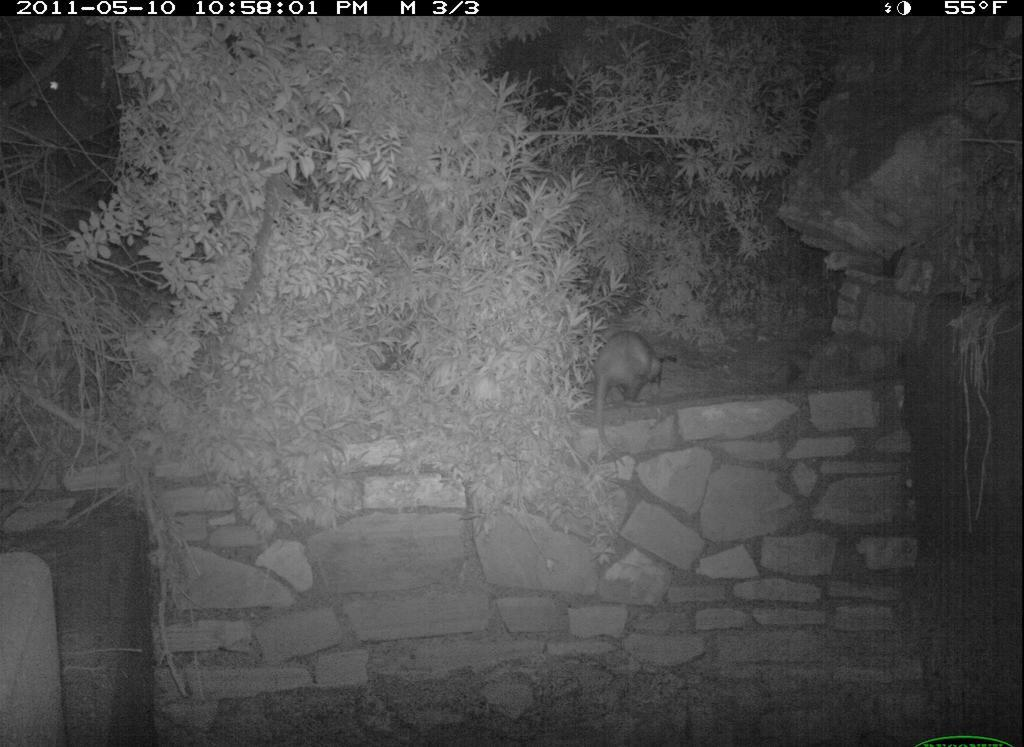opossum: (583, 321, 679, 447)
